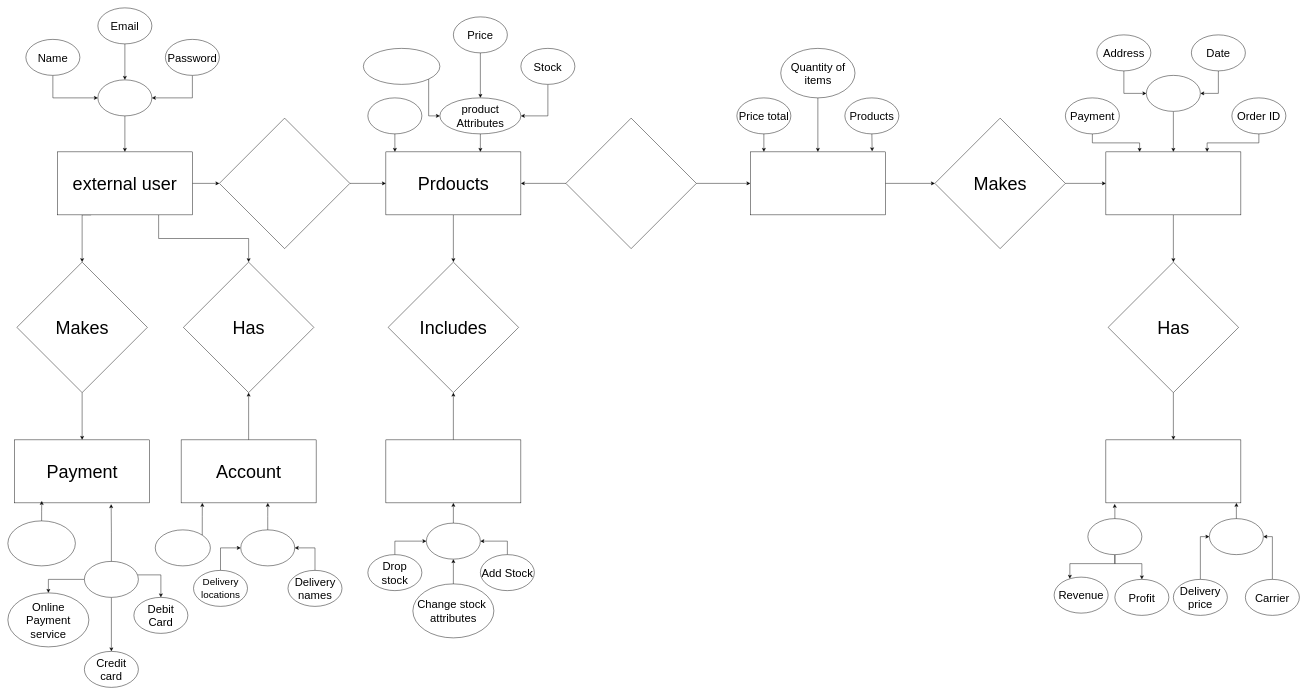
The diagram is 1307 pixels wide and 695 high, and some of its shapes have lost their labels. The box of each missing label's shape, as (x1, y1, x2, y2) in pixels:
Abilities: (426, 523, 480, 559)
Account ID: (155, 529, 210, 566)
Adds to: (565, 118, 696, 249)
Admin access: (385, 439, 521, 503)
Cart: (750, 151, 885, 215)
Company data: (1105, 439, 1241, 503)
Delivery: (1146, 75, 1200, 111)
Descriptions: (363, 48, 440, 84)
ID: (367, 97, 422, 134)
Logistics: (1209, 518, 1263, 555)
Looks at: (219, 118, 350, 249)
Method: (84, 561, 138, 597)
Money: (1087, 518, 1142, 555)
Order: (1105, 151, 1241, 215)
Total Amount spent: (7, 520, 75, 566)
Unique ID: (97, 79, 152, 116)
Unique IDs: (240, 529, 295, 566)
